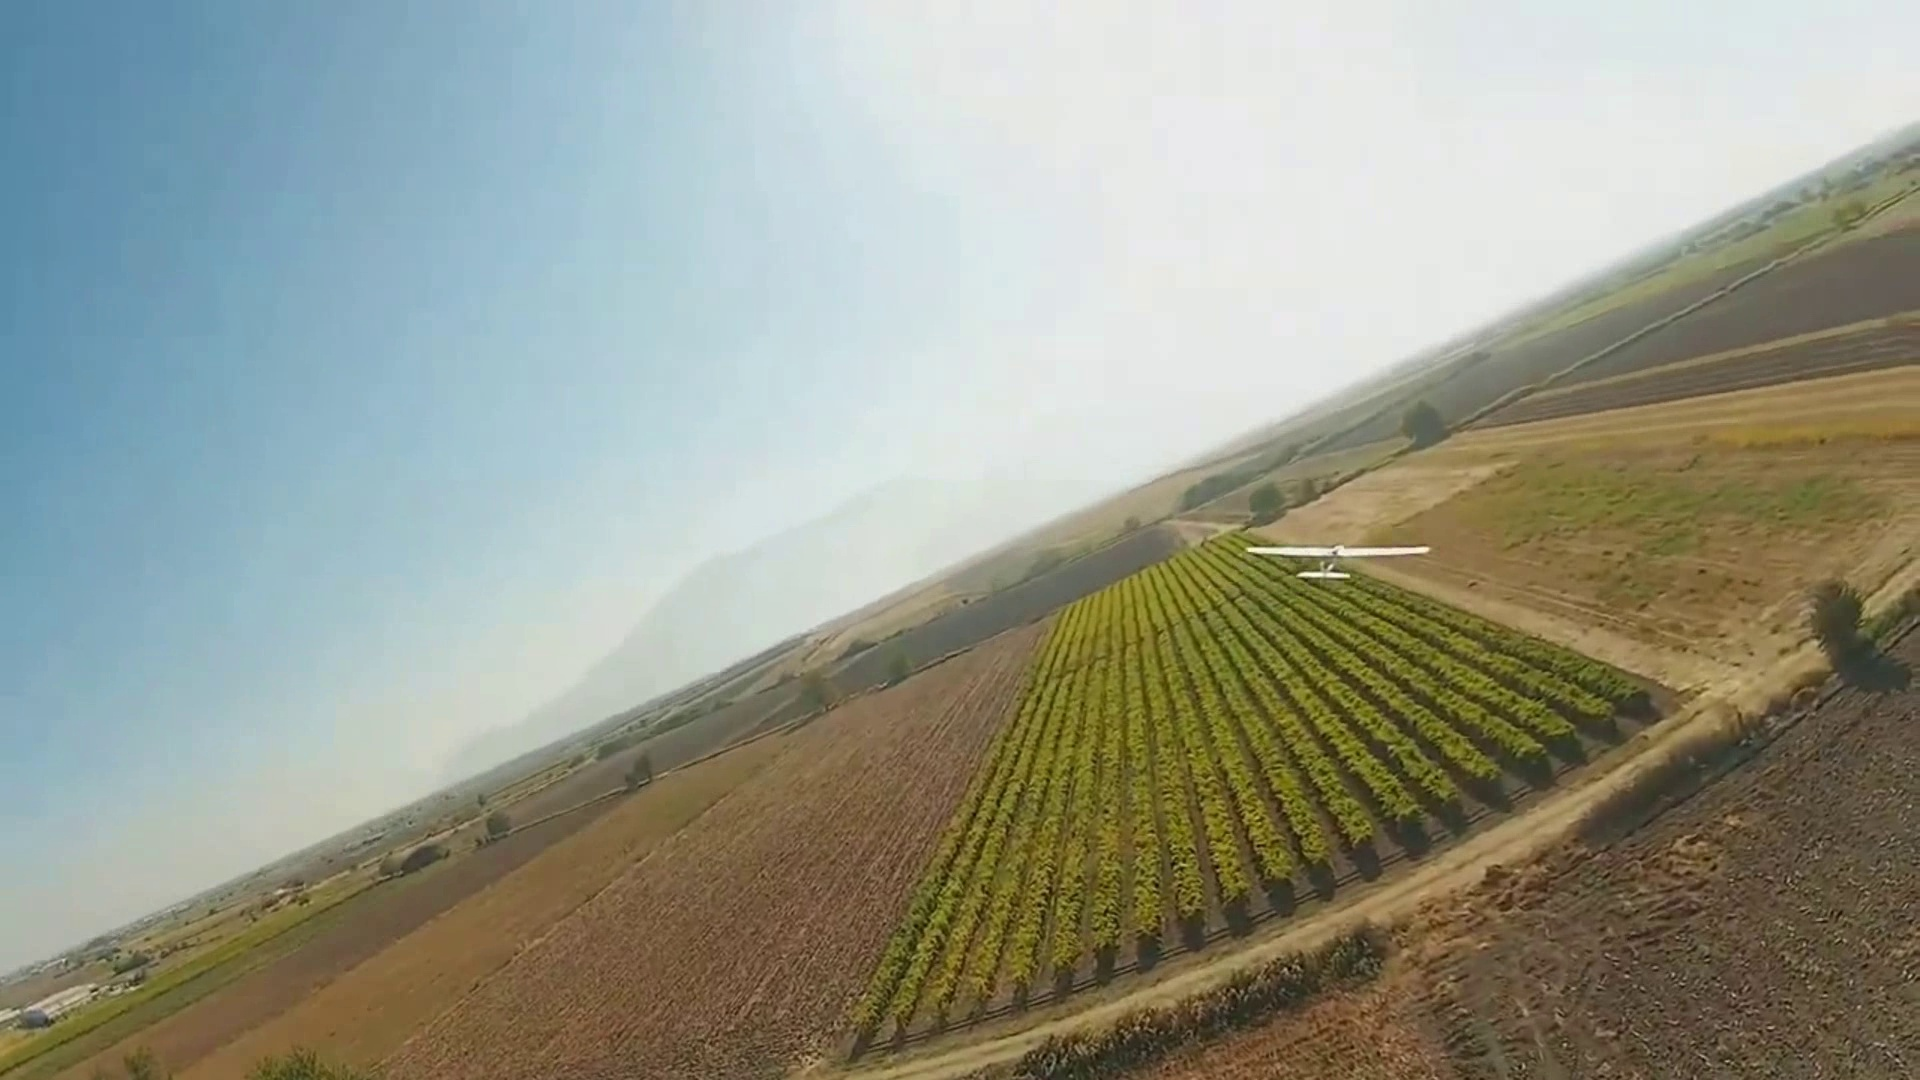airplane: (12, 124, 1917, 1048)
